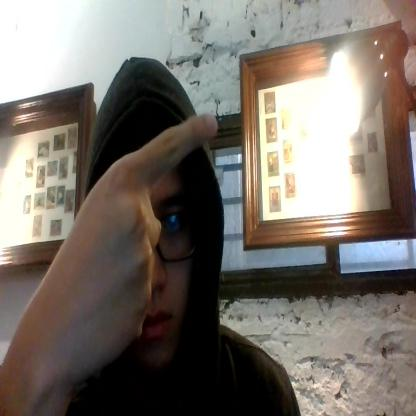left: (25, 111, 218, 380)
